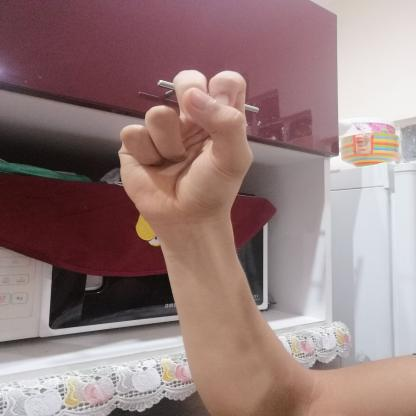QAAF: (100, 58, 274, 241)
